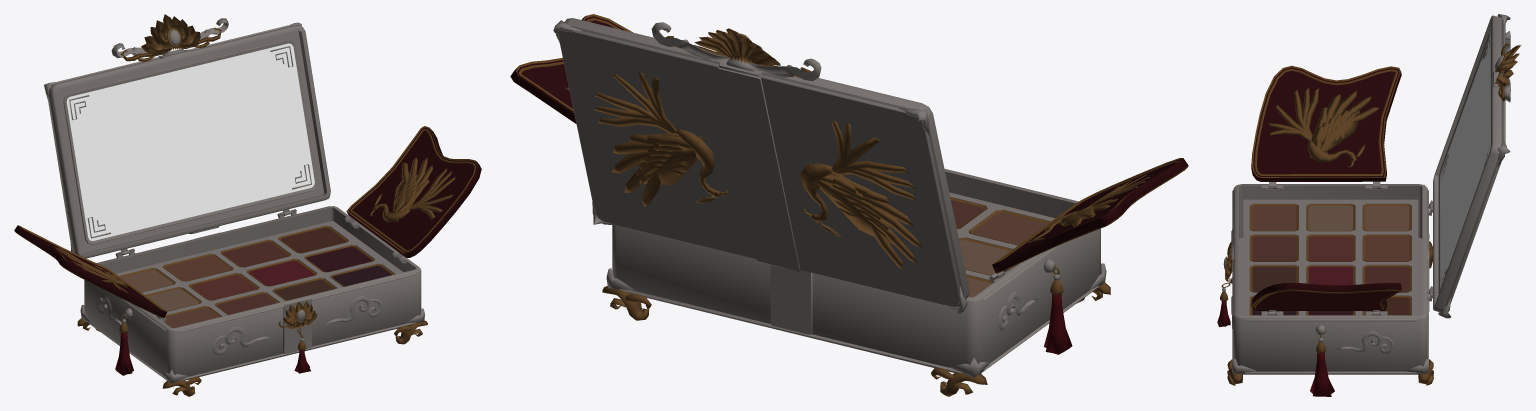
Rendered from Mi_Yue_LowPoly.fbx.
3 renders of one model, left to right at view 1: azimuth 30°, elevation 25°; view 2: azimuth 150°, elevation 25°; view 3: azimuth 270°, elevation 25°, orthographic. The views are drawn at different scales.
Visible parts, largest first — view 1: Mirror_low, Body_low, Lid_low, Right_Door_Enamel_and_Double_Bead_low, Eyeshadow_Tray_Twelve_Pockets_low, Mirror_Inner_Bezel_low, Right_Door_Phoenix_relief_low, Left_Door_Enamel_and_Double_Bead_low, Lid_Lotus_crown_low, Eyeshadow_04_Powder_and_Rim_low, Eyeshadow_02_Powder_and_Rim_low, Eyeshadow_03_Powder_and_Rim_low (+18 smaller); view 2: Lid_low, Body_low, Ribbon_Center_low, Left_Lid_Phoenix_relief_low, Right_Lid_Phoenix_relief_low, Left_Door_Enamel_and_Double_Bead_low, Ribbon_Body_Rear_low, Right_Door_Enamel_and_Double_Bead_low, Lid_Lotus_crown_low, Eyeshadow_09_Powder_and_Rim_low, Lower_Gold_Bead_low, Lid_Gold_Bead_low (+9 smaller); view 3: Body_low, Left_Door_Enamel_and_Double_Bead_low, Mirror_low, Eyeshadow_Tray_Twelve_Pockets_low, Lid_low, Left_Door_Phoenix_relief_low, Right_Door_Enamel_and_Double_Bead_low, Eyeshadow_09_Powder_and_Rim_low, Eyeshadow_10_Powder_and_Rim_low, Eyeshadow_01_Powder_and_Rim_low, Eyeshadow_02_Powder_and_Rim_low, Eyeshadow_05_Powder_and_Rim_low (+13 smaller).
Boxes of the visible parts, x1,y1,x2,y2 form: Mirror_low: (66,43,314,240); Body_low: (84,206,421,380); Lid_low: (49,25,330,258); Right_Door_Enamel_and_Double_Bead_low: (346,126,481,257); Eyeshadow_Tray_Twelve_Pockets_low: (116,221,402,317); Mirror_Inner_Bezel_low: (63,40,317,244); Right_Door_Phoenix_relief_low: (370,156,455,222); Left_Door_Enamel_and_Double_Bead_low: (14,225,166,317); Lid_Lotus_crown_low: (121,14,221,61); Eyeshadow_04_Powder_and_Rim_low: (278,226,348,253); Eyeshadow_02_Powder_and_Rim_low: (163,254,232,281); Eyeshadow_03_Powder_and_Rim_low: (220,240,290,267); Lid_low: (558,18,969,307); Body_low: (612,168,1100,372); Ribbon_Center_low: (717,67,800,270); Left_Lid_Phoenix_relief_low: (800,120,923,269); Right_Lid_Phoenix_relief_low: (593,72,727,206); Left_Door_Enamel_and_Double_Bead_low: (992,158,1188,273); Ribbon_Body_Rear_low: (770,265,812,334); Right_Door_Enamel_and_Double_Bead_low: (510,14,632,123); Lid_Lotus_crown_low: (666,28,811,77); Eyeshadow_09_Powder_and_Rim_low: (969,210,1050,245); Lower_Gold_Bead_low: (620,286,1098,373); Lid_Gold_Bead_low: (570,25,964,297); Body_low: (1233,184,1427,374); Left_Door_Enamel_and_Double_Bead_low: (1251,65,1401,181); Mirror_low: (1441,37,1489,287); Eyeshadow_Tray_Twelve_Pockets_low: (1243,199,1418,315); Lid_low: (1433,15,1505,312); Left_Door_Phoenix_relief_low: (1269,87,1379,167); Right_Door_Enamel_and_Double_Bead_low: (1251,282,1401,310); Eyeshadow_09_Powder_and_Rim_low: (1250,204,1298,231); Eyeshadow_10_Powder_and_Rim_low: (1250,234,1298,261); Eyeshadow_01_Powder_and_Rim_low: (1363,204,1411,231); Eyeshadow_02_Powder_and_Rim_low: (1363,234,1411,261); Eyeshadow_05_Powder_and_Rim_low: (1306,204,1354,231).
Bounding box in the file's own units: 0.2963 × 0.1767 × 0.1726.
